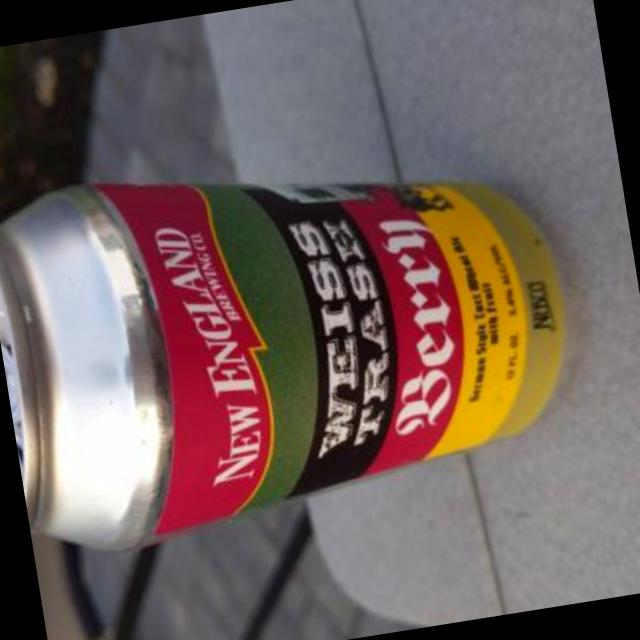metal: (0, 187, 559, 552)
